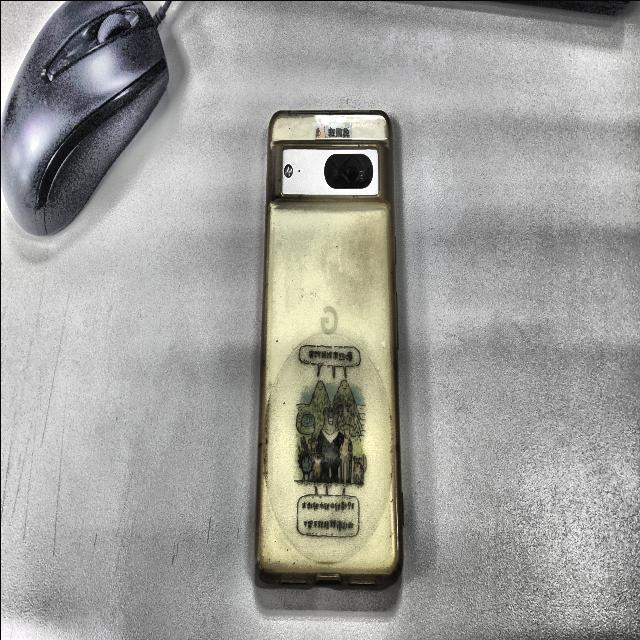MOUSE: (0, 0, 168, 235)
PHONE: (254, 110, 402, 585)
